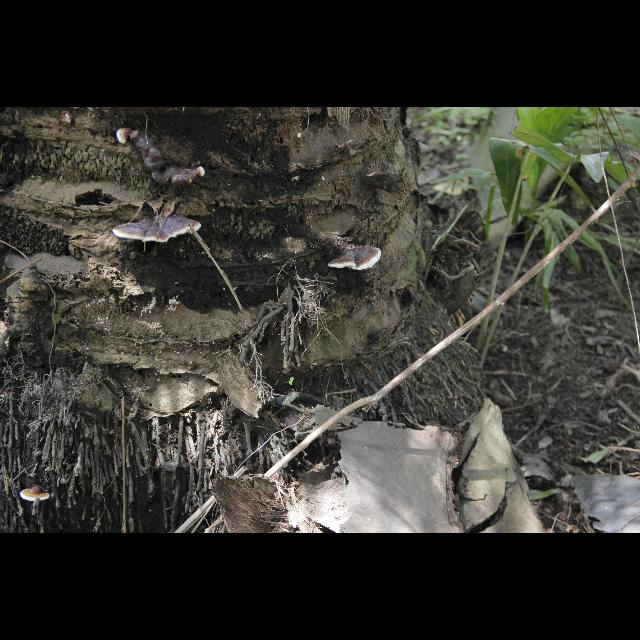ganoderma: (131, 129, 197, 189), (114, 214, 203, 245), (329, 247, 384, 272), (20, 485, 53, 505)
primordium: (118, 128, 130, 146), (197, 167, 207, 178), (297, 134, 303, 141)
